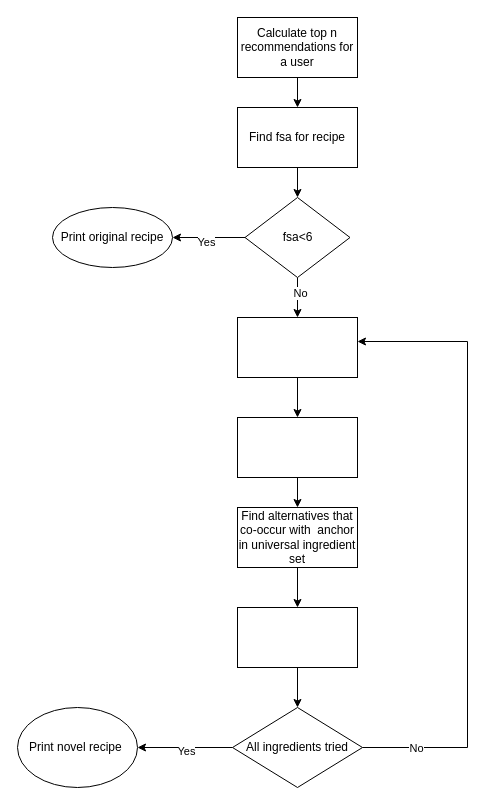
Some shapes in this 493 by 805 pixel diagram are drawn without their labels. The shapes that lost their labels are listed below. From the top down, each one's centre as x and y in pixels, then its label:
At (x=297, y=347): "Select ingredient for replacement".
At (x=297, y=447): "Find anchor element using pairwise pmi".
At (x=297, y=637): "Replace and predict fsa".
